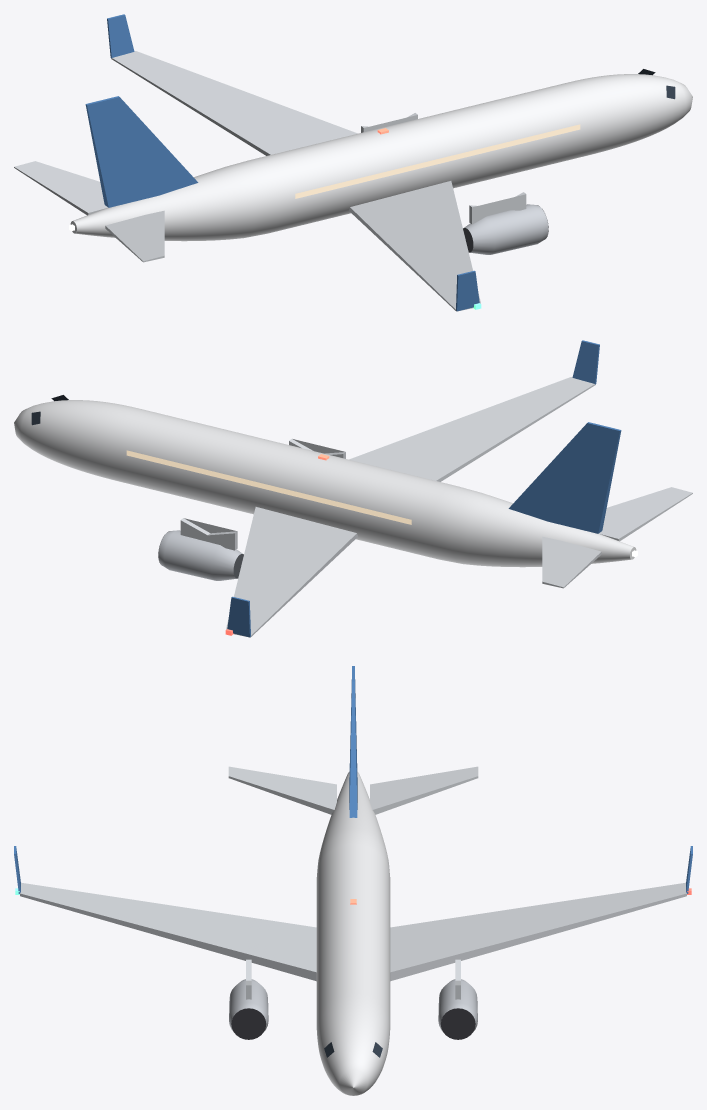
File: narrow.glb
The picture shows the model from 3 angles, top to bottom: view 1: azimuth 30°, elevation 25°; view 2: azimuth 150°, elevation 25°; view 3: azimuth 270°, elevation 25°; orthographic projection. The views are drawn at different scales.
Visible parts, largest first — view 1: main; view 2: main; view 3: main.
Part boxes in pixels (x1=…): main: x1=14, y1=14, x2=692, y2=311; main: x1=14, y1=340, x2=692, y2=637; main: x1=14, y1=666, x2=692, y2=1095.
Bounding box in the file's own units: 37.82 × 11.28 × 36.97.
